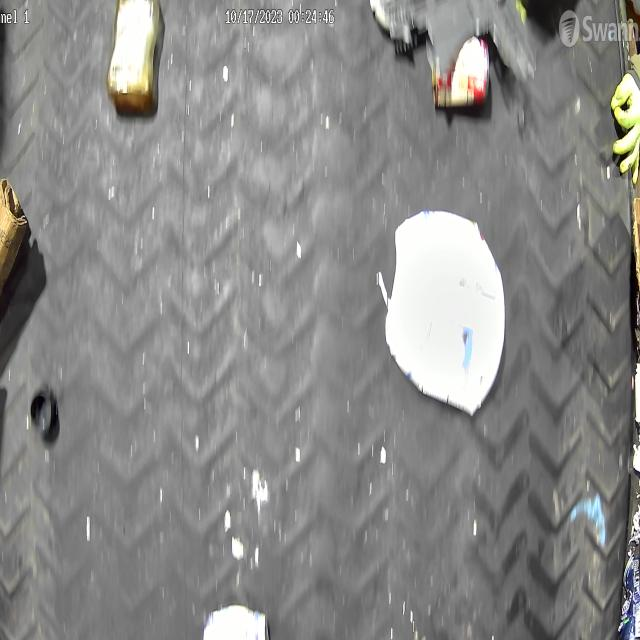can: (432, 36, 490, 111), (618, 554, 640, 640)
